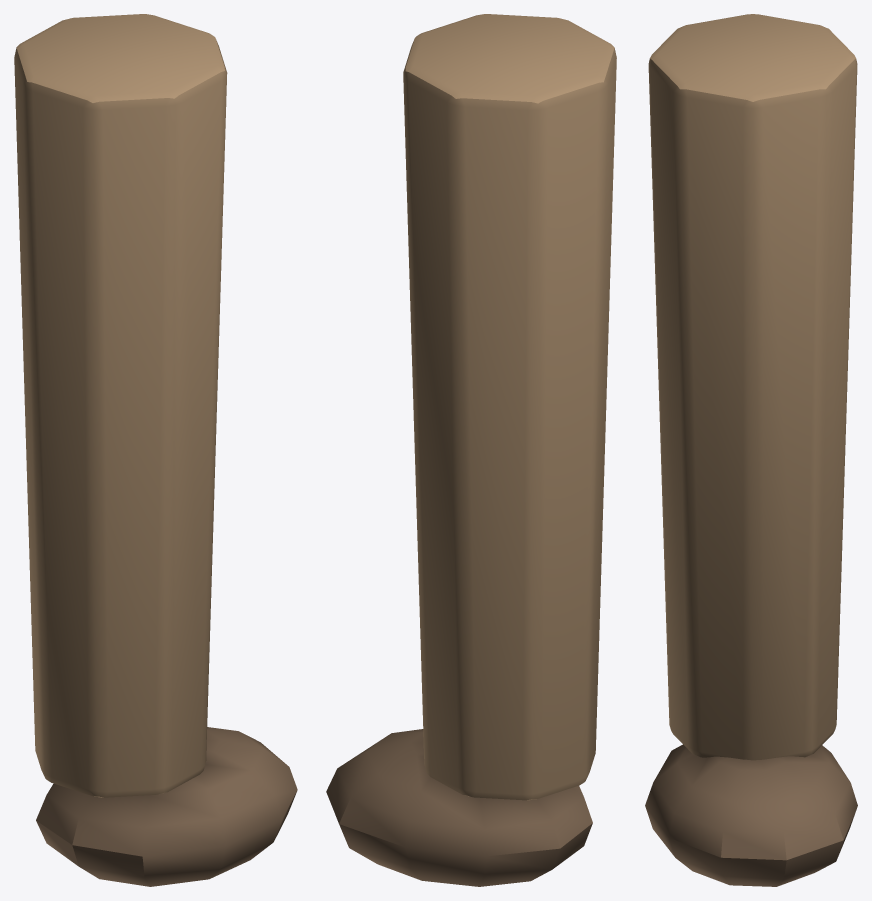
File: dog_leg.glb
3 renders of one model, left to right at view 1: azimuth 30°, elevation 25°; view 2: azimuth 150°, elevation 25°; view 3: azimuth 270°, elevation 25°, orthographic. The views are drawn at different scales.
Parts seen in each view (by area): view 1: boat_fur, boat_furdark; view 2: boat_fur, boat_furdark; view 3: boat_fur, boat_furdark.
Boxes of the visible parts, bbox=[...] form: boat_fur: bbox=[14, 14, 227, 797]; boat_furdark: bbox=[36, 727, 297, 886]; boat_fur: bbox=[403, 14, 616, 800]; boat_furdark: bbox=[326, 729, 592, 886]; boat_fur: bbox=[648, 14, 857, 760]; boat_furdark: bbox=[645, 744, 857, 886].
Bounding box in the file's own units: 0.1073 × 0.325 × 0.0795.
